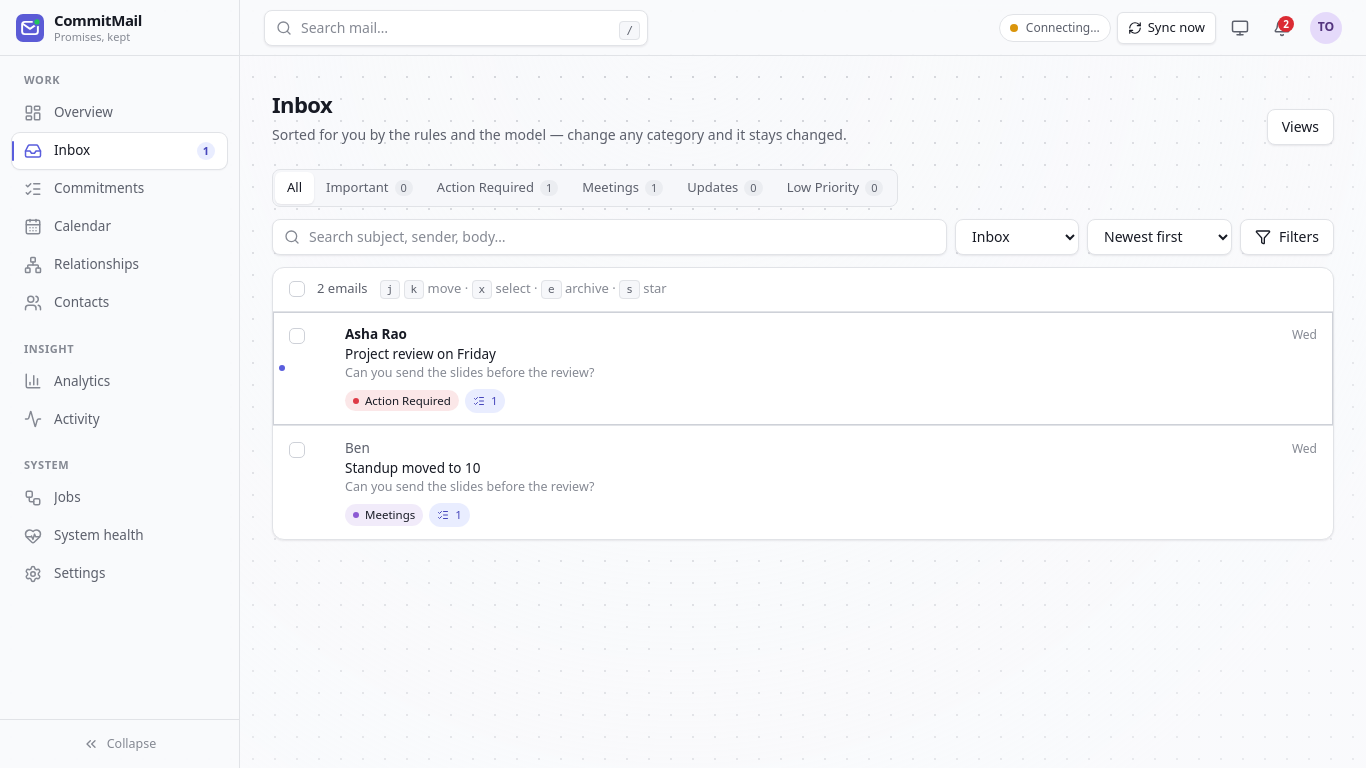
Test case: inbox › does not mark an already-read email again
Click the text "Standup moved to 10" at (413, 468), box x1=345 y1=459 x2=480 y2=477
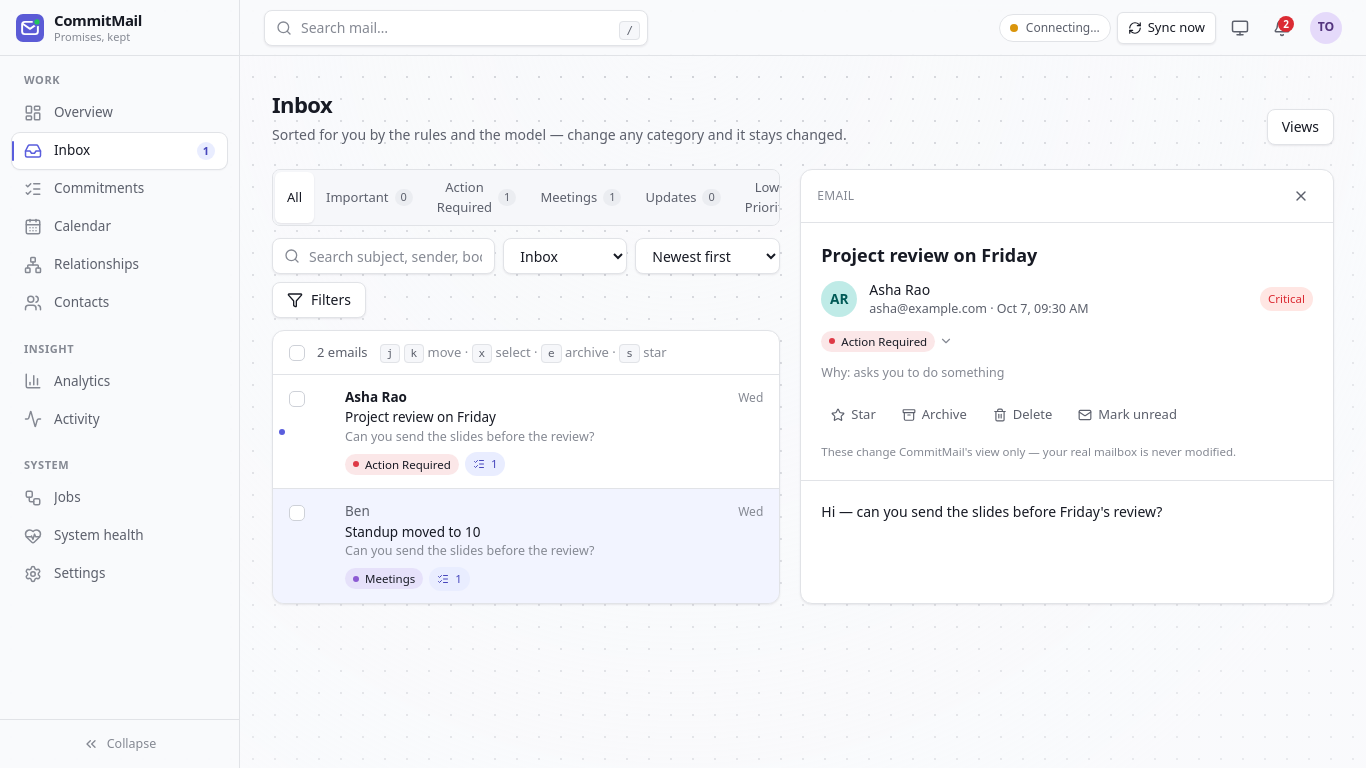
Now the button named "Close email" is shown, box x1=1285 y1=180 x2=1317 y2=212
